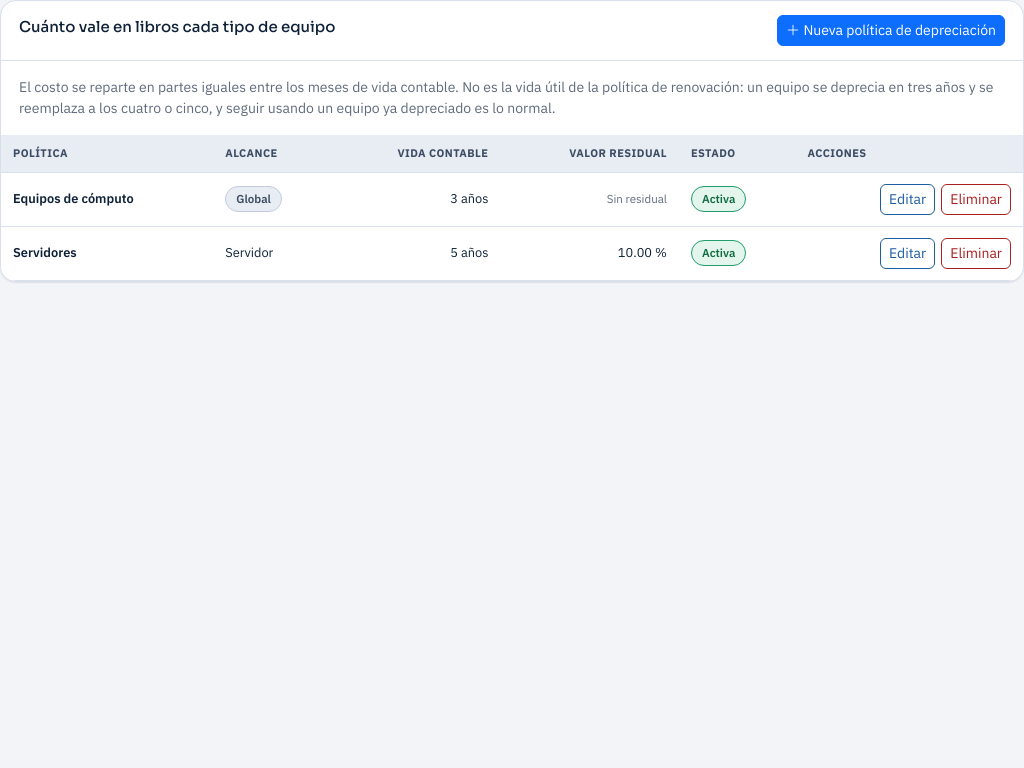
Test: Al definir una política de depreciación › una vida de cero meses no se puede guardar
Step 1. Click the button "Nueva política de depreciación" → x=891, y=30, box [777, 15, 1005, 46]
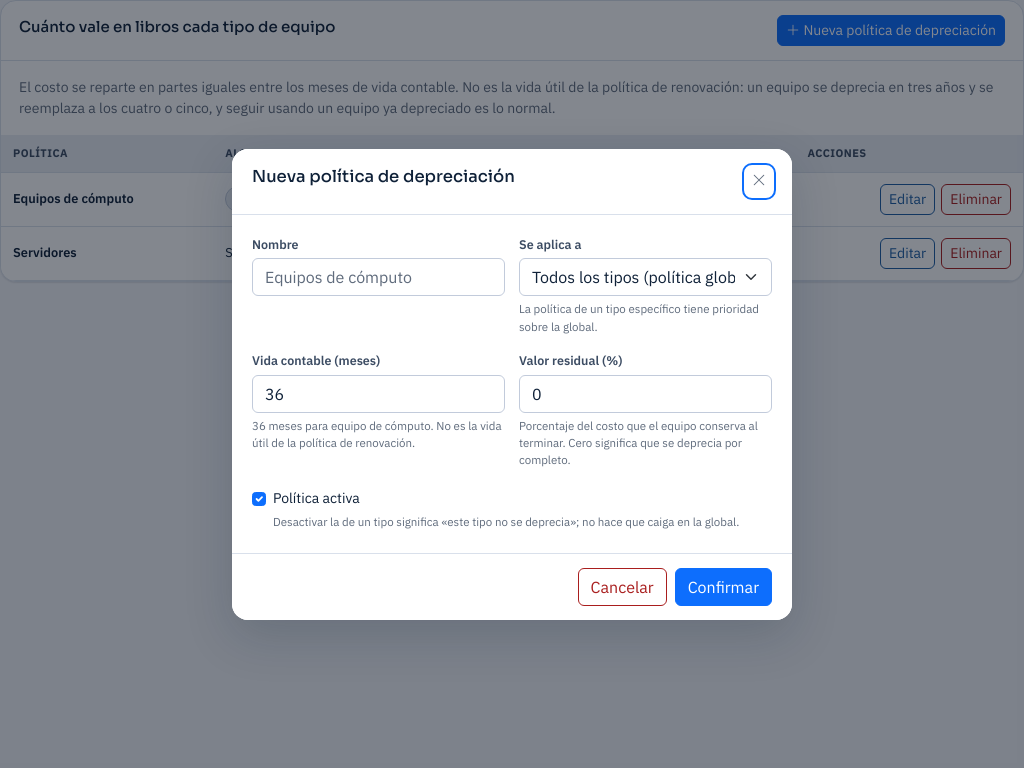
Step 2. Replace the text in the number field labelled "Vida contable (meses)" with "0" → x=378, y=394, box [252, 374, 505, 412]
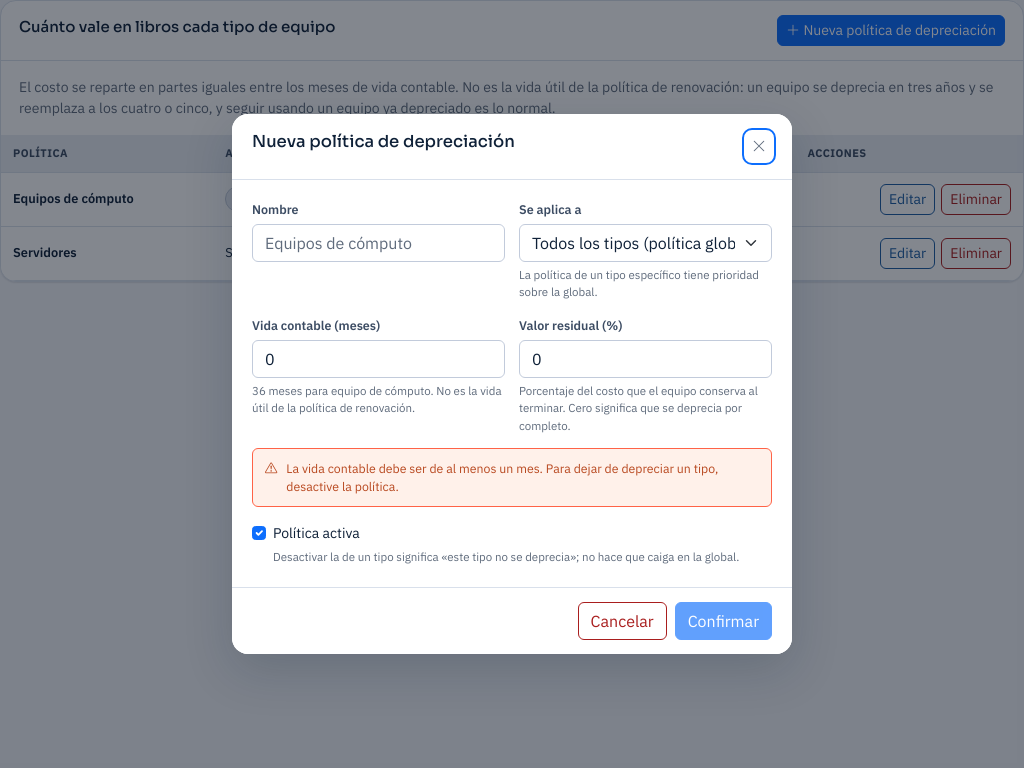
Check: the text "debe ser de al menos un mes" is shown, box [286, 460, 718, 494]
Check: the button "Confirmar" is disabled, box [675, 602, 772, 640]
